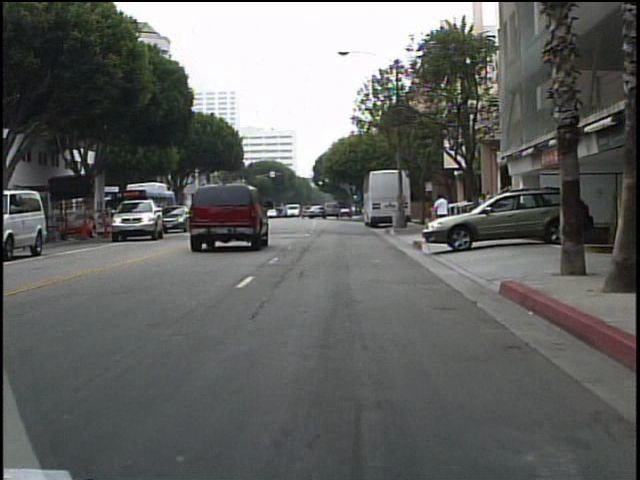person: (429, 190, 453, 239)
